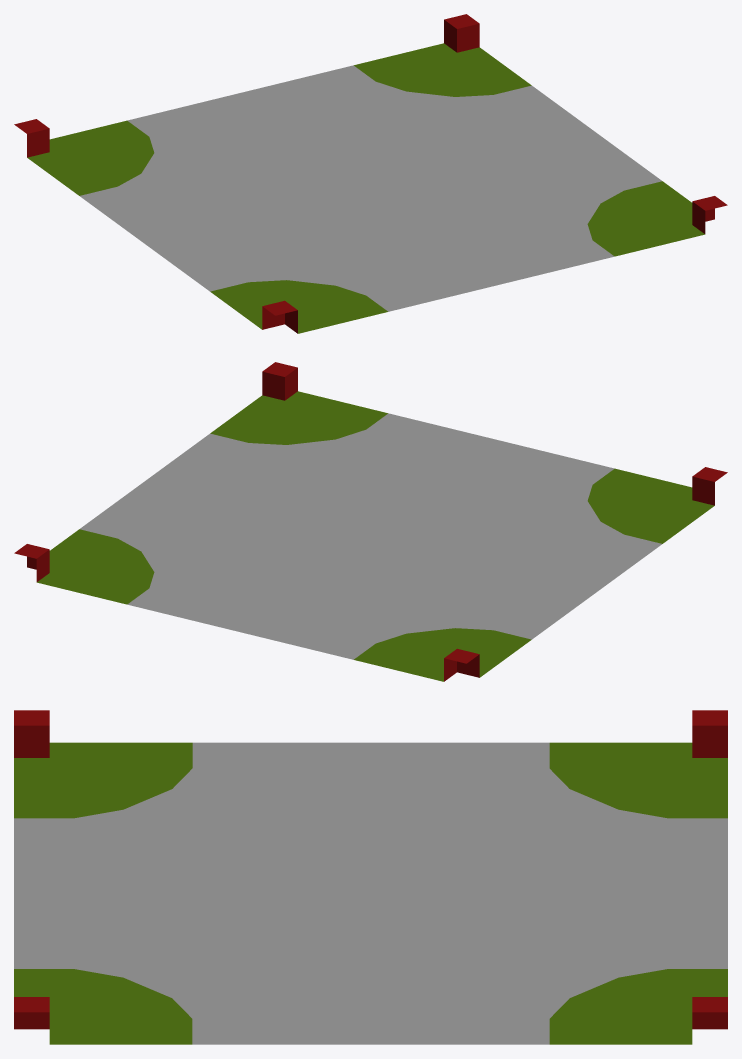
Rendered from roadtile_cross_20x20.FBX.
3 renders of one model, top to bottom at view 1: azimuth 30°, elevation 25°; view 2: azimuth 150°, elevation 25°; view 3: azimuth 270°, elevation 25°, orthographic. The views are drawn at different scales.
Parts seen in each view (by area): view 1: Plane002; view 2: Plane002; view 3: Plane002.
Boxes of the visible parts, bbox=[...] form: Plane002: bbox=[14, 14, 727, 333]; Plane002: bbox=[14, 362, 727, 681]; Plane002: bbox=[14, 710, 727, 1044].
Size of the model in its own units: 787 by 39.37 by 787.
